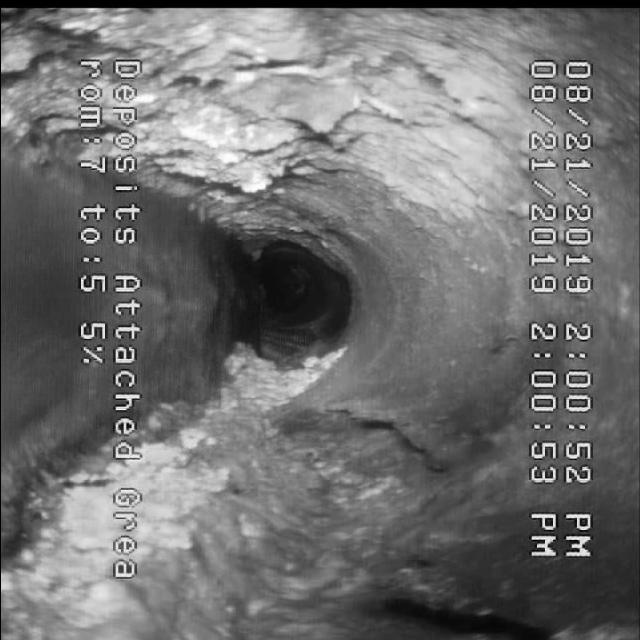Fracture: (289, 418, 516, 636)
